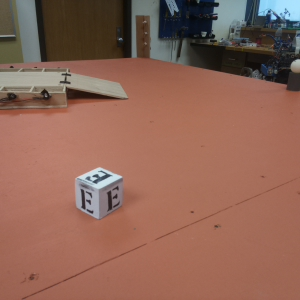blockE: (77, 168, 124, 220)
corner: (135, 13, 150, 60)
obstacle: (284, 58, 299, 95)
side: (1, 85, 70, 111)
slope: (68, 71, 128, 106)
